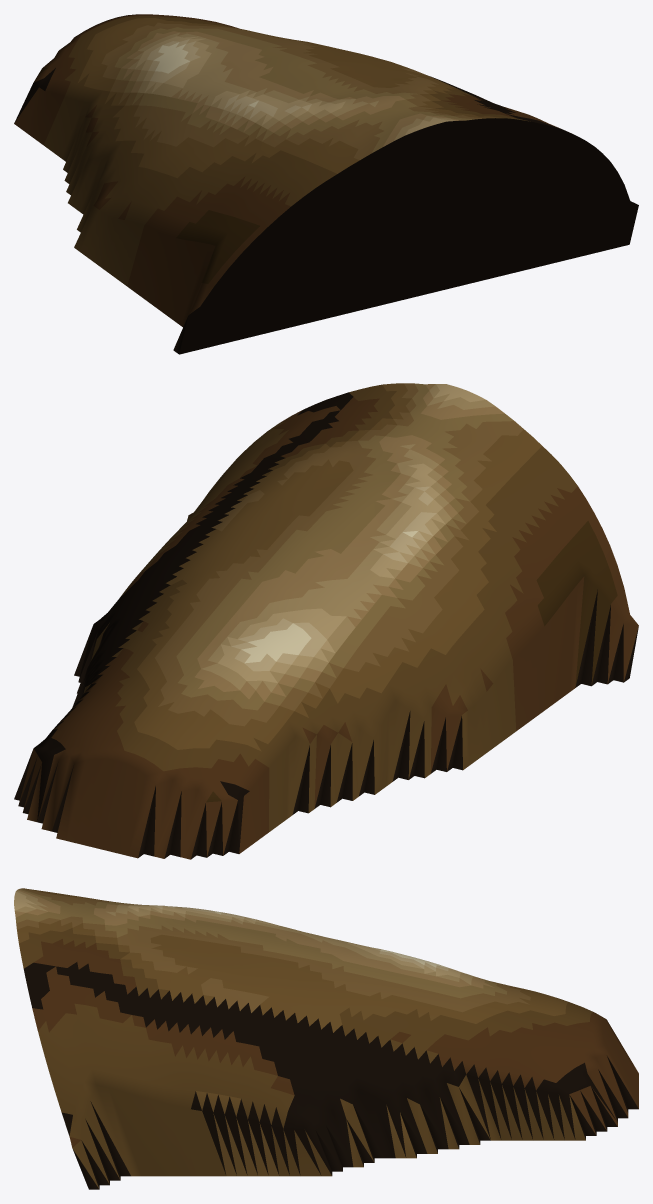
The model's file is nose_bridge.glb.
3 views of the same model, one above another, from view 1: azimuth 30°, elevation 25°; view 2: azimuth 150°, elevation 25°; view 3: azimuth 270°, elevation 25° (orthographic). The views are drawn at different scales.
Parts seen in each view (by area): view 1: nose_bridge; view 2: nose_bridge; view 3: nose_bridge.
Part boxes in pixels (x1,y1,x2,y2): nose_bridge: [14, 14, 638, 354]; nose_bridge: [14, 383, 638, 859]; nose_bridge: [14, 888, 638, 1189].
Bounding box in the file's own units: 22 × 9.74 × 29.54.
